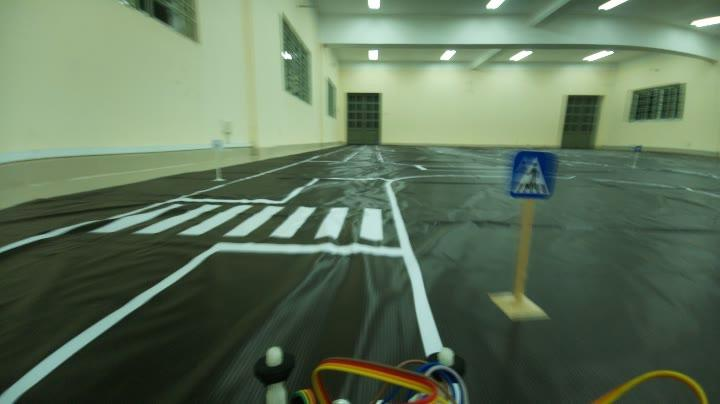crosswalk: (504, 144, 566, 200)
